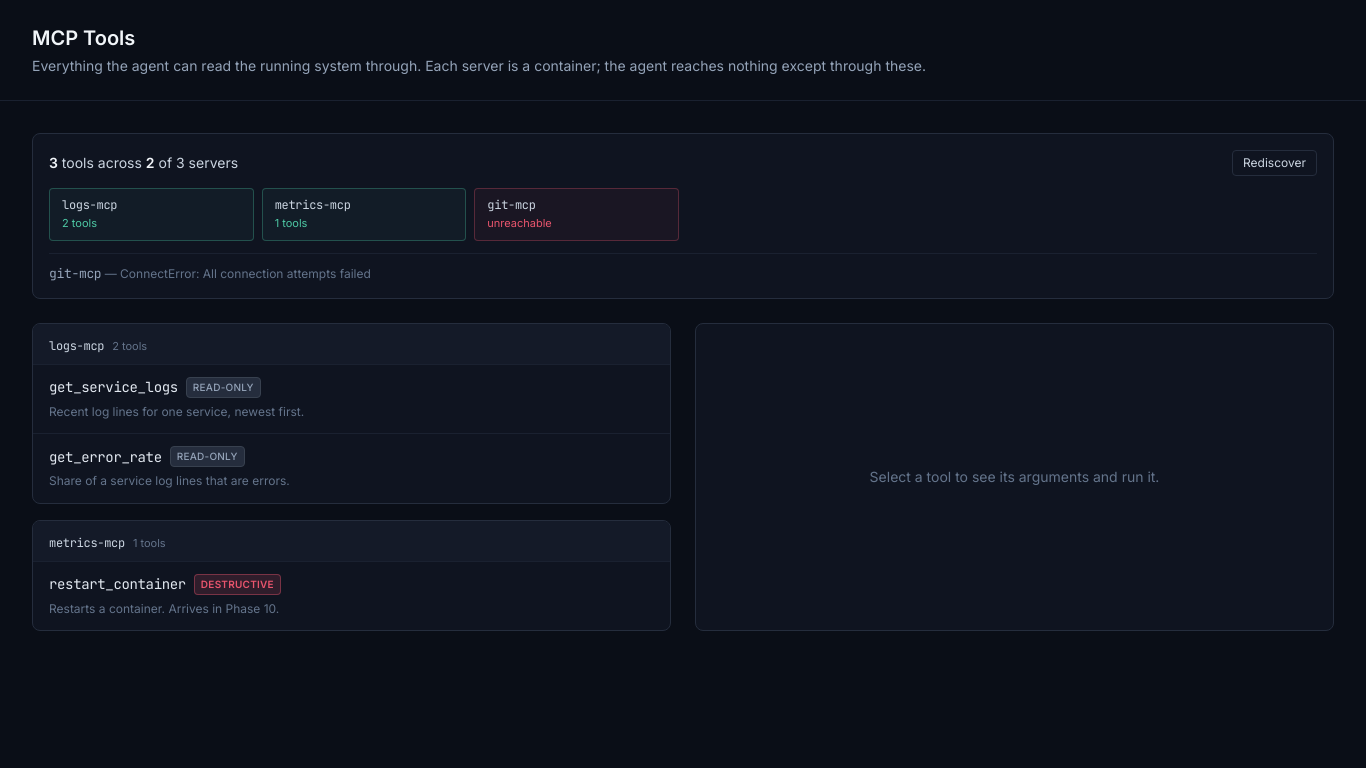
Test case: McpToolsPage › runs the selected tool and renders what came back
The width and height of the screenshot is (1366, 768).
Click the text "get_service_logs".
click(113, 387)  # box [49,377,178,397]
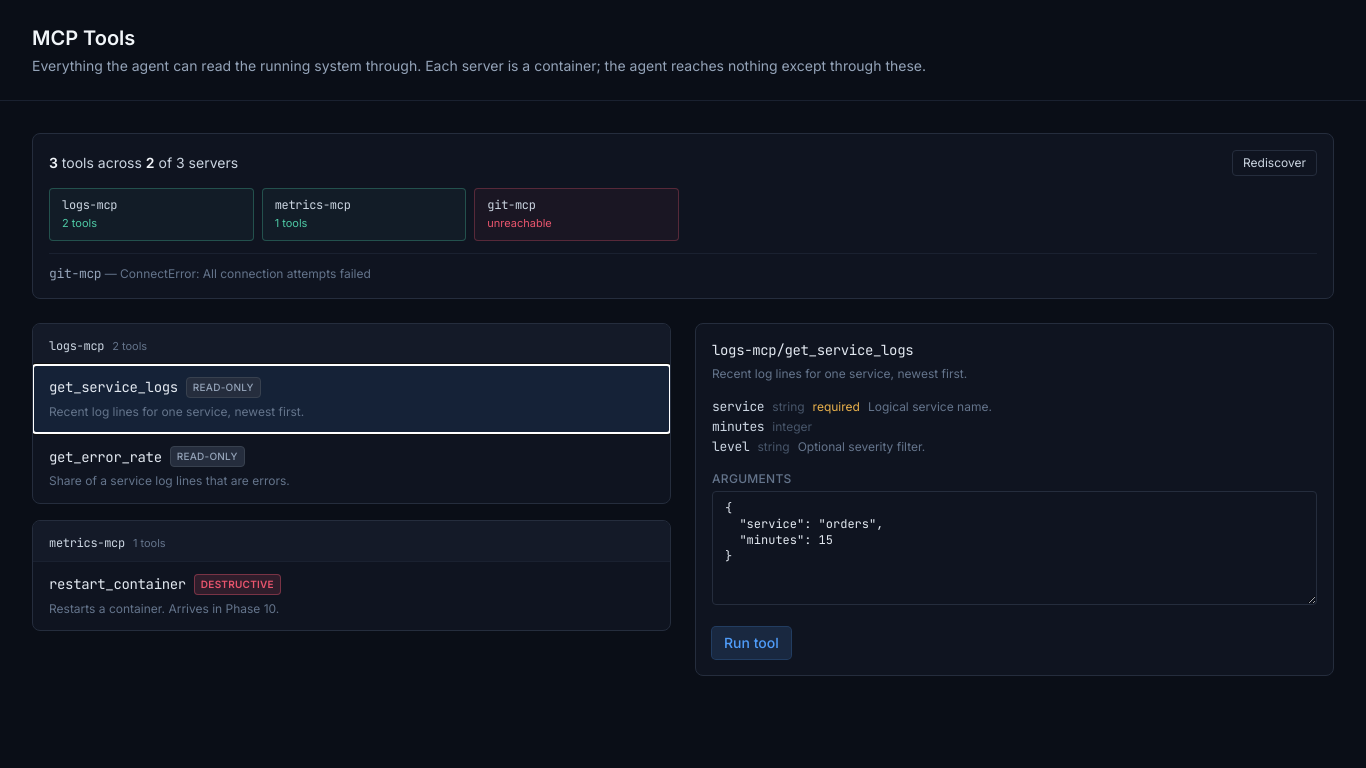
Click the button "Run tool".
click(751, 643)  # box [712,627,791,659]
(page scrolled)
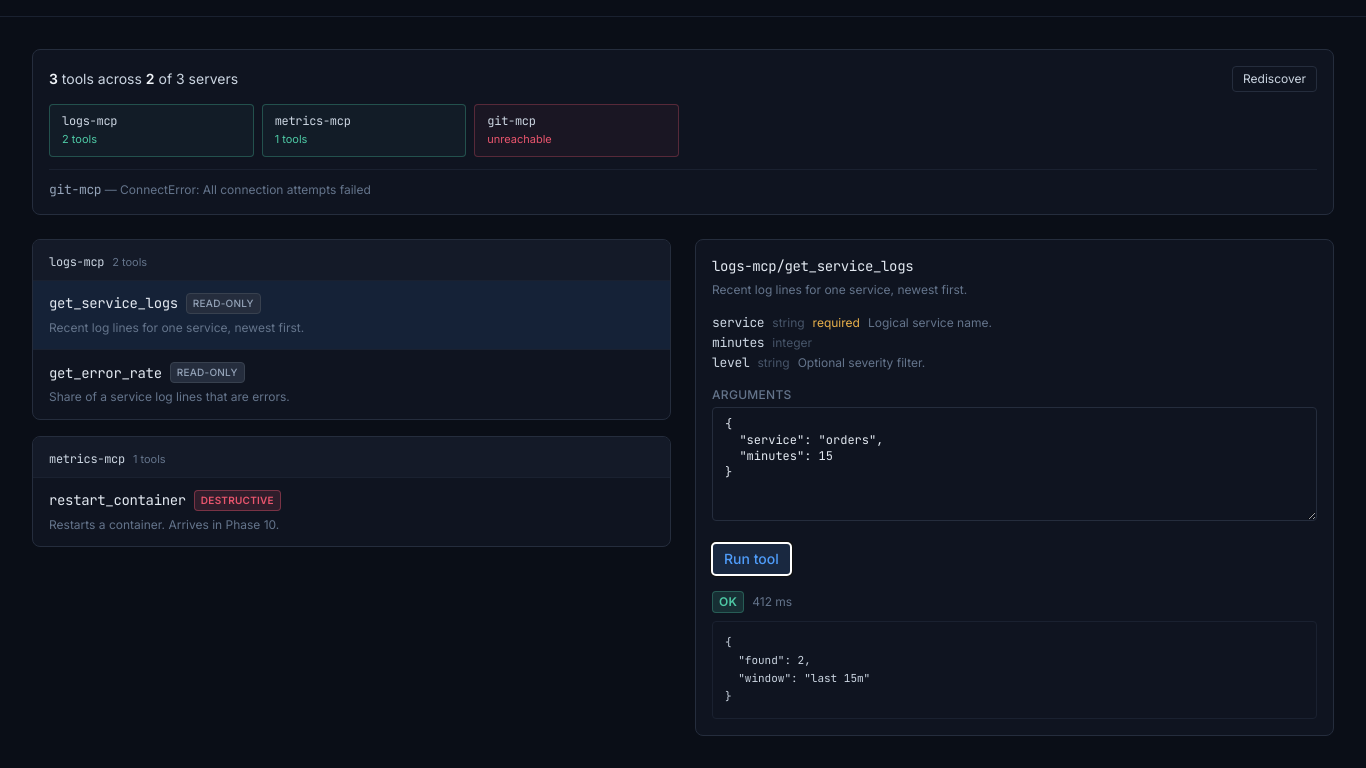
expect the text "ok" is shown: met, box [712,591,744,613]
expect the text "412 ms" is shown: met, box [752,594,792,610]
expect the text "{ \"found\": 2, \"window\": \"last 15m\" }" is shown: met, box [712,621,1317,718]
